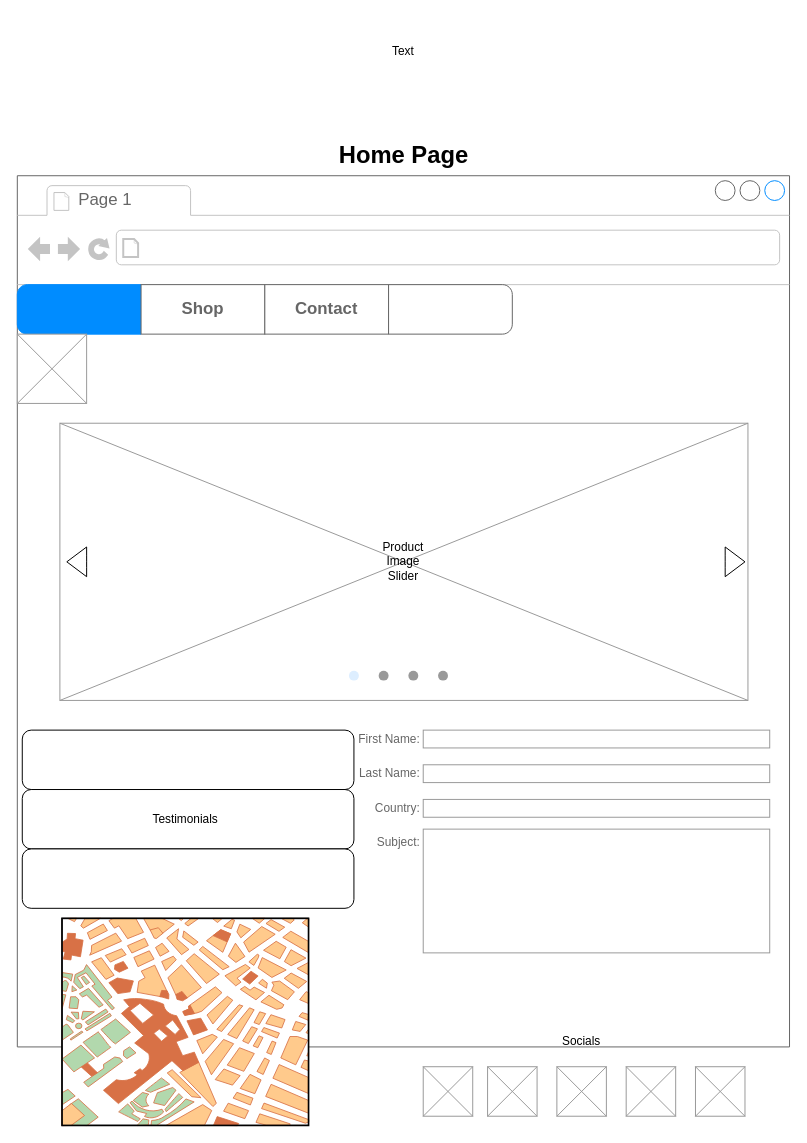
The diagram is 807 pixels wide and 1143 high, and some of its shapes have lost their labels. The centre of each missing label's shape, as x and y in pixels:
"About" belongs at pixel 450 309.
"Home" belongs at pixel 78 309.
"Logo" belongs at pixel 51 368.
"www.nelsonsmerch.com" belongs at pixel 269 247.
